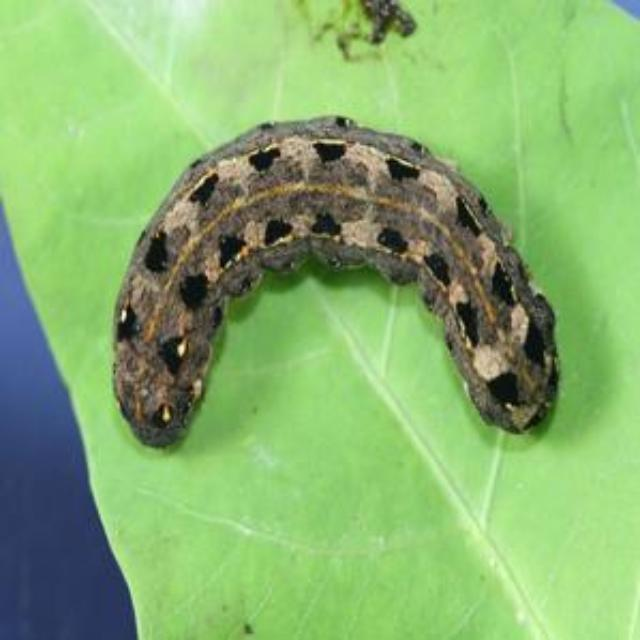Tobacco cutworm: (70, 92, 592, 540)
